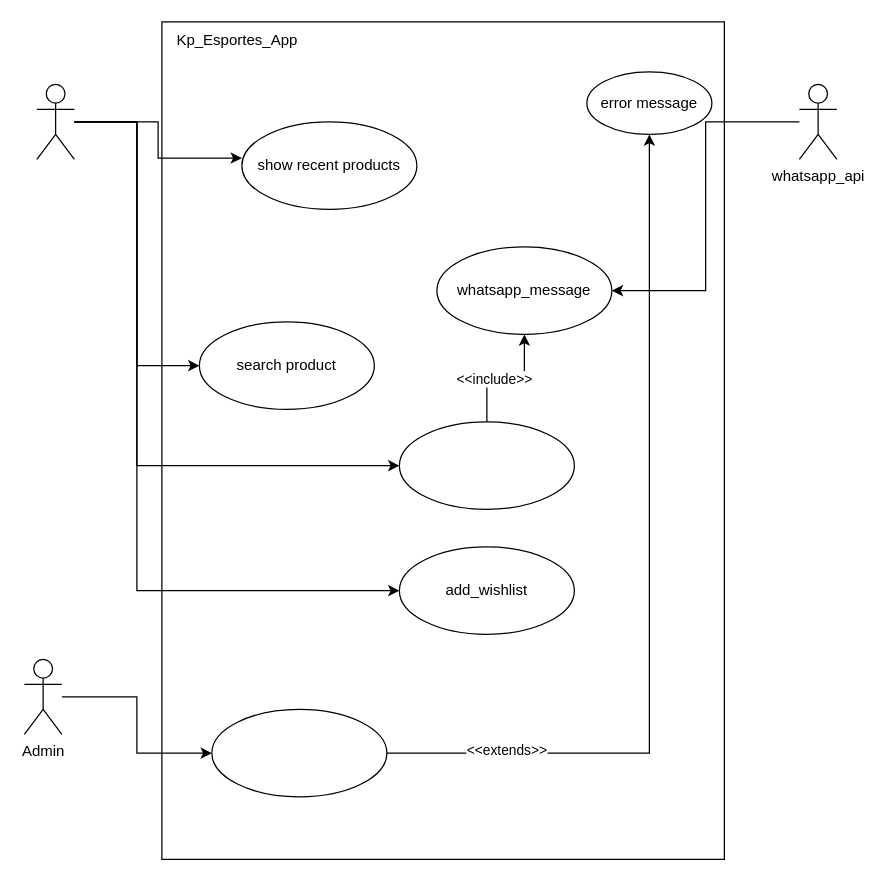
Image size: 885x881. Some labels were removed from this diagram. Here are the shapes that lost their labels. From the top down, the box of each, then its label:
(36, 83, 74, 159): Client
(398, 421, 574, 509): buy product
(211, 708, 387, 797): Products add/update/delete
